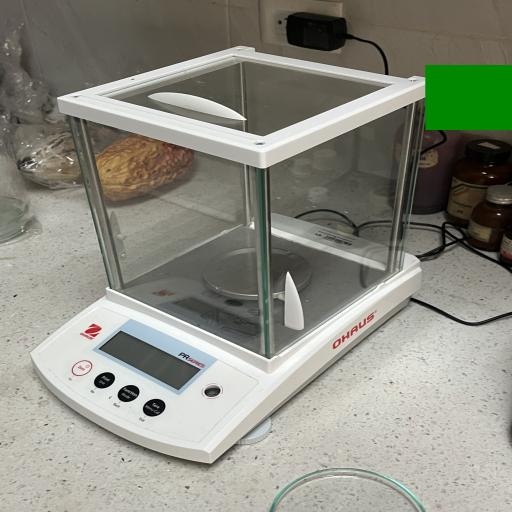Balanza_Analitica_Ohaus: (21, 36, 465, 472)
